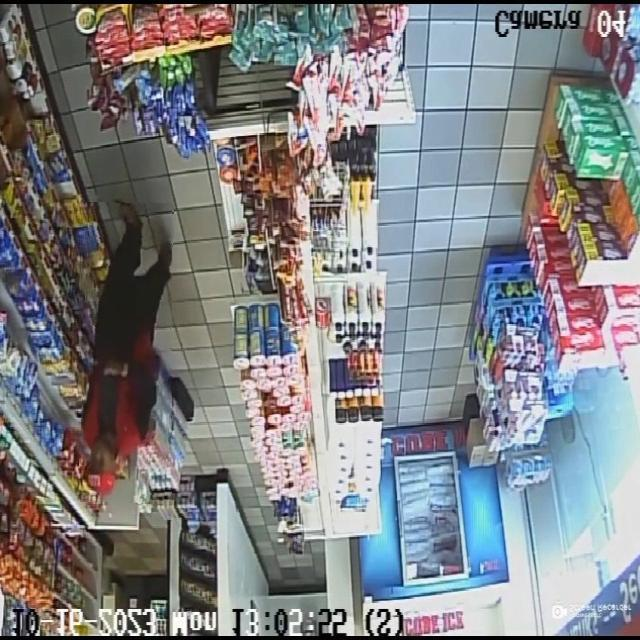Normal: (79, 202, 172, 504)
